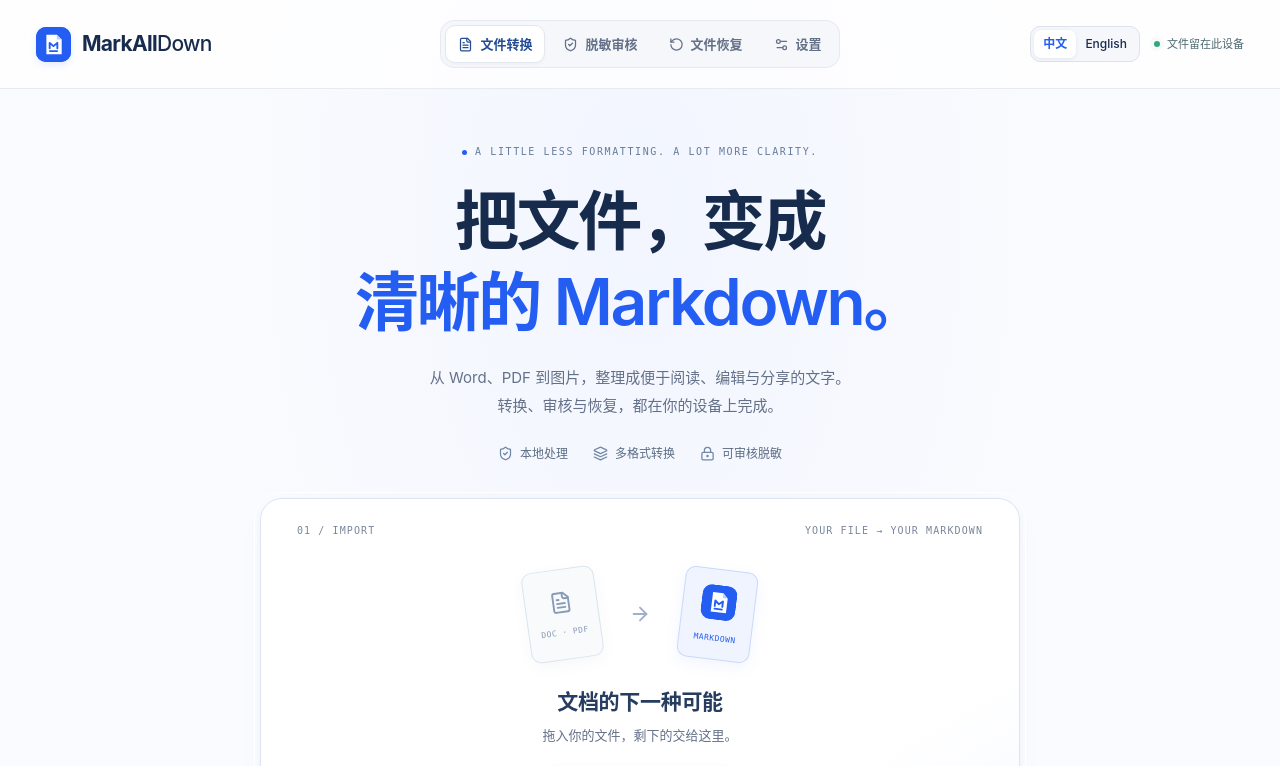
Test: explains a capability restriction beside the disabled button
The width and height of the screenshot is (1280, 766).
Click the button "设置" at (798, 44), box [760,25,834,63]
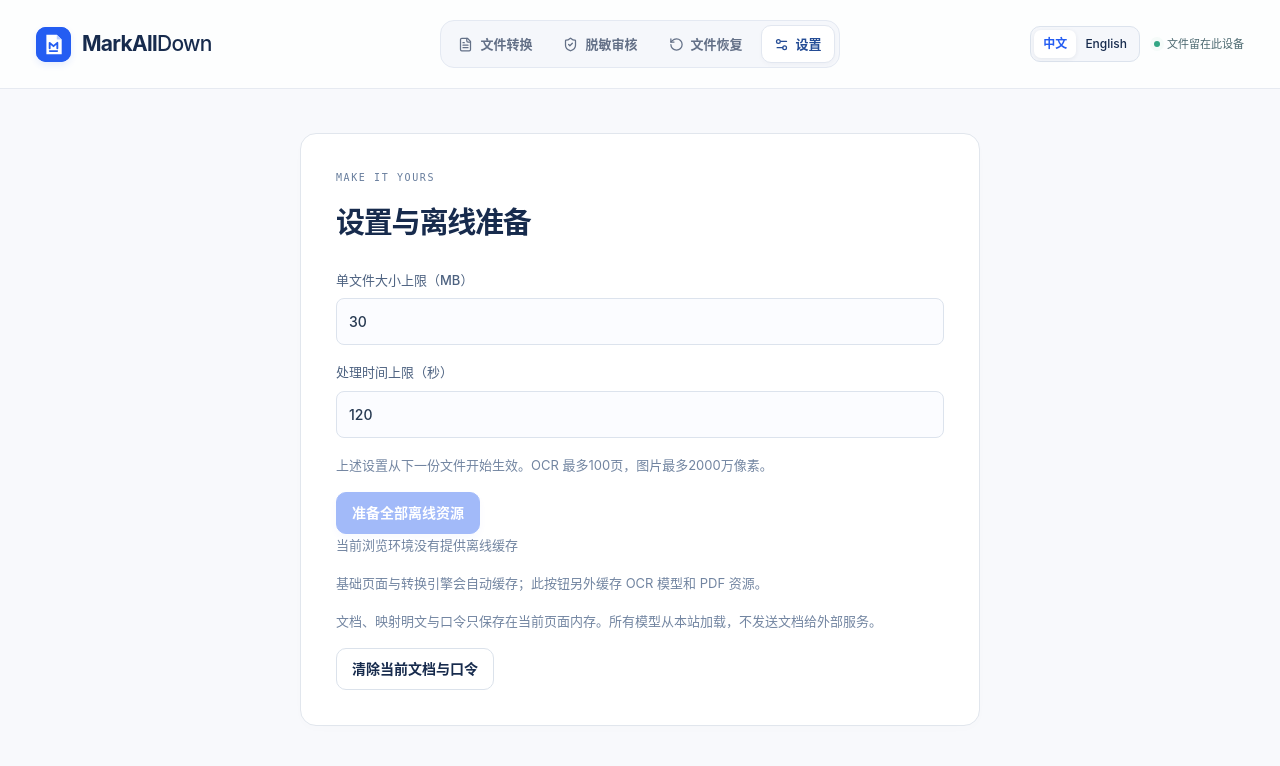
Expected: the button "准备全部离线资源" is disabled, [336,492,480,534]
Expected: the text "当前浏览环境没有提供离线缓存" is shown, [336,537,518,553]
